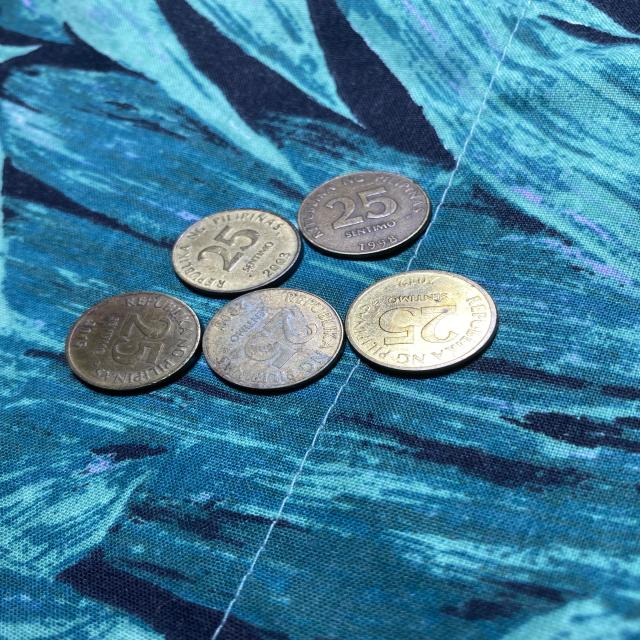25Cent_Old_Front: (238, 311, 319, 369), (110, 309, 171, 368), (381, 305, 456, 347), (200, 225, 254, 272), (327, 188, 393, 226)
